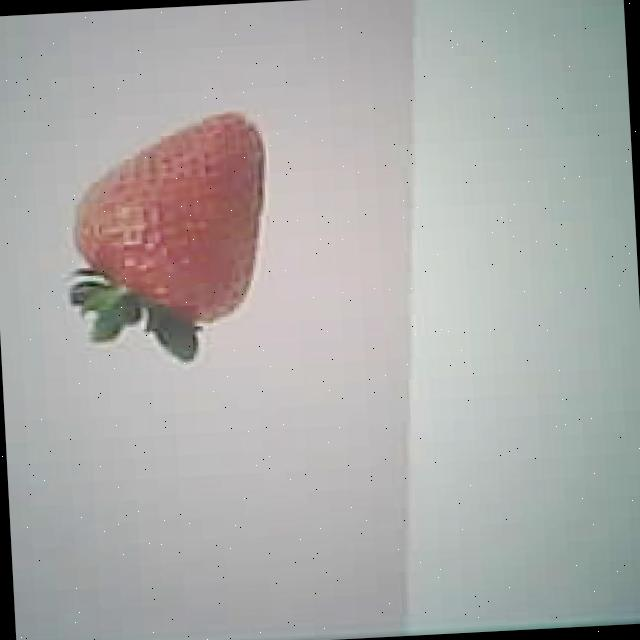strawberry: (60, 110, 274, 334)
